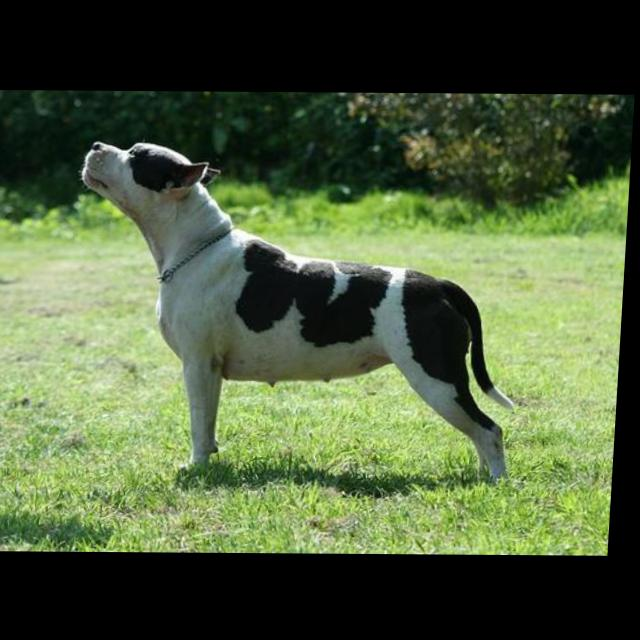amstaff: (69, 139, 534, 485)
